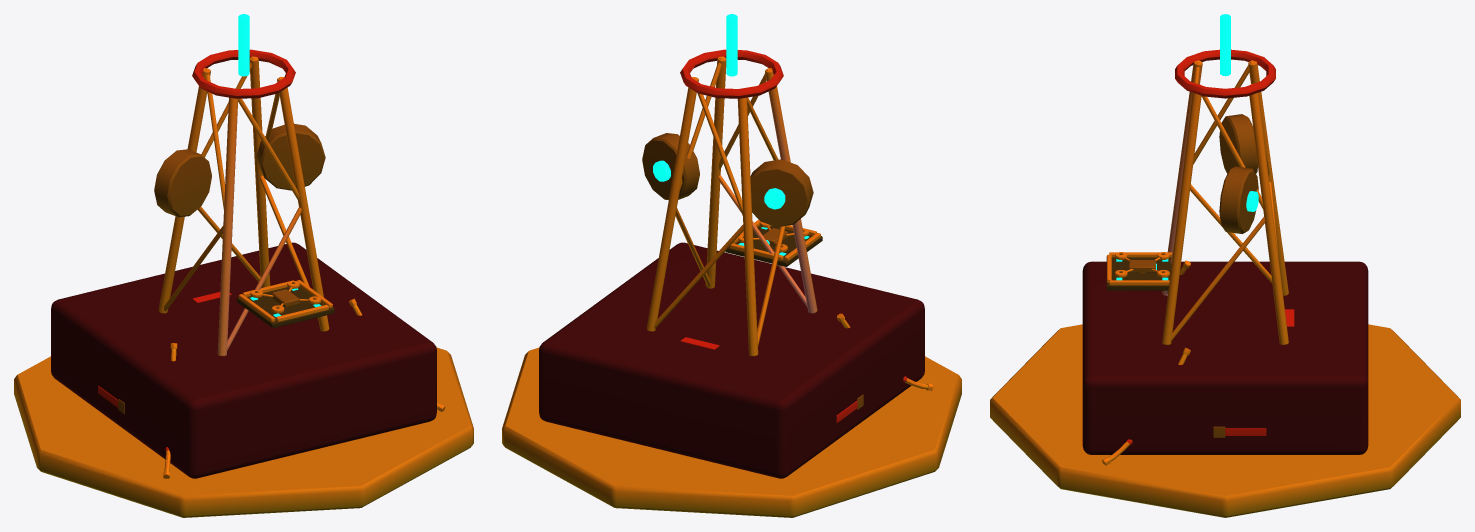
Rendered from DeepSpaceRelay.fbx.
3 renders of one model, left to right at view 1: azimuth 30°, elevation 25°; view 2: azimuth 150°, elevation 25°; view 3: azimuth 270°, elevation 25°, orthographic.
Visible parts, largest first — view 1: DeepSpaceRelay_DeepSpaceRelay_PrimaryArmor, DeepSpaceRelay_DeepSpaceRelay_Gunmetal, DeepSpaceRelay_DeepSpaceRelay_LightArmor, DeepSpaceRelay_DeepSpaceRelay_Warning, DeepSpaceRelay_DeepSpaceRelay_Emissive; view 2: DeepSpaceRelay_DeepSpaceRelay_PrimaryArmor, DeepSpaceRelay_DeepSpaceRelay_Gunmetal, DeepSpaceRelay_DeepSpaceRelay_LightArmor, DeepSpaceRelay_DeepSpaceRelay_Warning, DeepSpaceRelay_DeepSpaceRelay_Emissive; view 3: DeepSpaceRelay_DeepSpaceRelay_PrimaryArmor, DeepSpaceRelay_DeepSpaceRelay_Gunmetal, DeepSpaceRelay_DeepSpaceRelay_LightArmor, DeepSpaceRelay_DeepSpaceRelay_Warning, DeepSpaceRelay_DeepSpaceRelay_Emissive.
Boxes of the visible parts, x1=… form: DeepSpaceRelay_DeepSpaceRelay_PrimaryArmor: x1=51, y1=242, x2=436, y2=478; DeepSpaceRelay_DeepSpaceRelay_Gunmetal: x1=14, y1=56, x2=473, y2=517; DeepSpaceRelay_DeepSpaceRelay_LightArmor: x1=118, y1=123, x2=325, y2=414; DeepSpaceRelay_DeepSpaceRelay_Warning: x1=98, y1=49, x2=295, y2=451; DeepSpaceRelay_DeepSpaceRelay_Emissive: x1=238, y1=14, x2=320, y2=316; DeepSpaceRelay_DeepSpaceRelay_PrimaryArmor: x1=539, y1=225, x2=924, y2=478; DeepSpaceRelay_DeepSpaceRelay_Gunmetal: x1=502, y1=56, x2=961, y2=517; DeepSpaceRelay_DeepSpaceRelay_LightArmor: x1=642, y1=133, x2=863, y2=409; DeepSpaceRelay_DeepSpaceRelay_Warning: x1=680, y1=49, x2=907, y2=422; DeepSpaceRelay_DeepSpaceRelay_Emissive: x1=653, y1=14, x2=809, y2=255; DeepSpaceRelay_DeepSpaceRelay_PrimaryArmor: x1=1082, y1=256, x2=1368, y2=454; DeepSpaceRelay_DeepSpaceRelay_Gunmetal: x1=990, y1=60, x2=1460, y2=517; DeepSpaceRelay_DeepSpaceRelay_LightArmor: x1=1119, y1=114, x2=1258, y2=437; DeepSpaceRelay_DeepSpaceRelay_Warning: x1=1127, y1=49, x2=1294, y2=444; DeepSpaceRelay_DeepSpaceRelay_Emissive: x1=1116, y1=14, x2=1258, y2=280.
Bounding box in the file's own units: 623 × 590 × 623.
